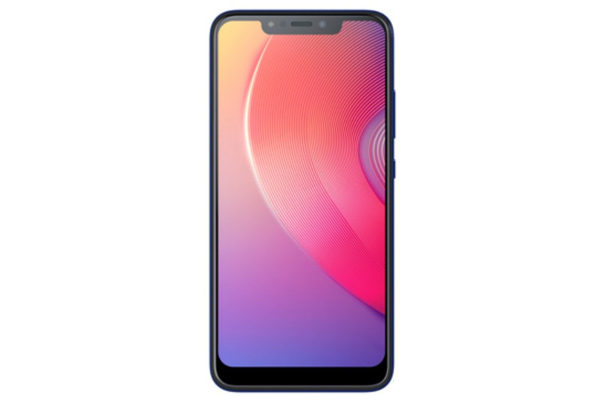Handphone: (205, 7, 398, 400)
